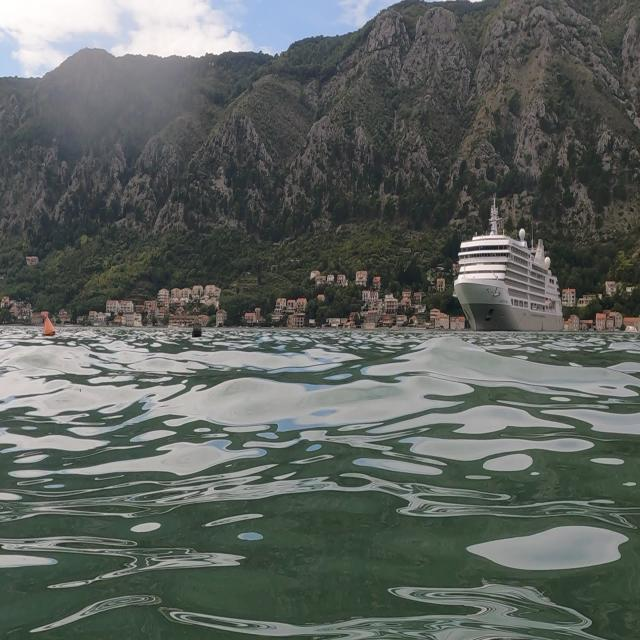boat: (451, 191, 566, 335)
buoy: (39, 306, 62, 346), (191, 316, 205, 346)
